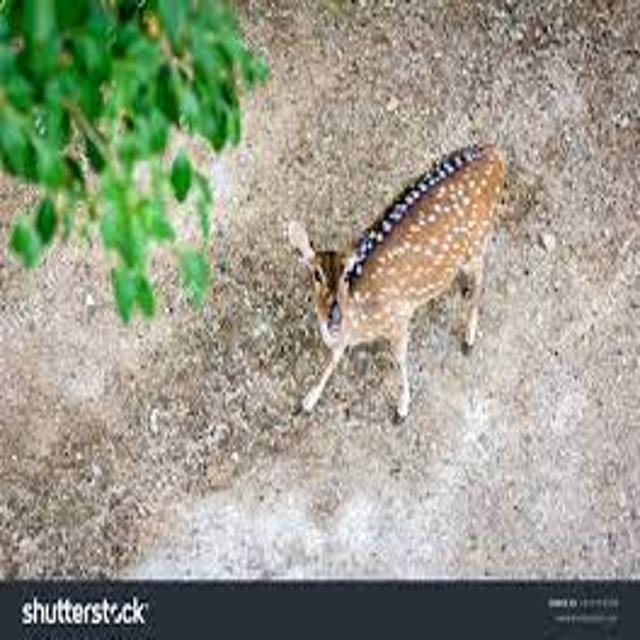deer: (244, 108, 535, 463)
